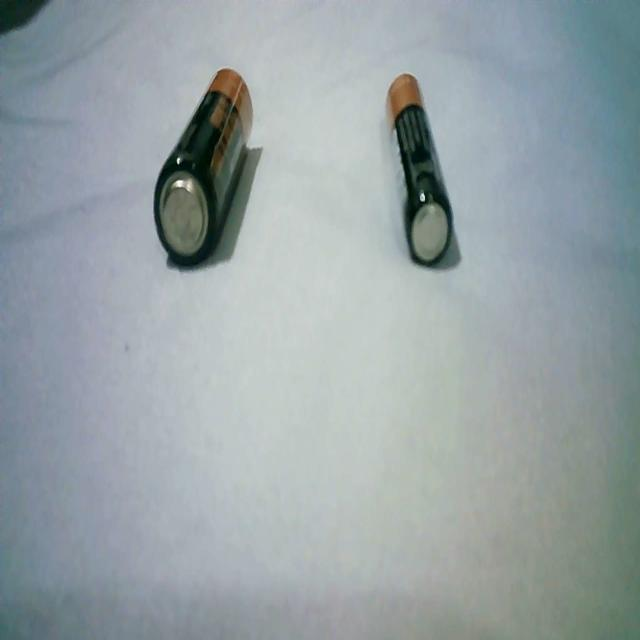AA: (149, 60, 258, 272)
AAA: (382, 65, 456, 274)
